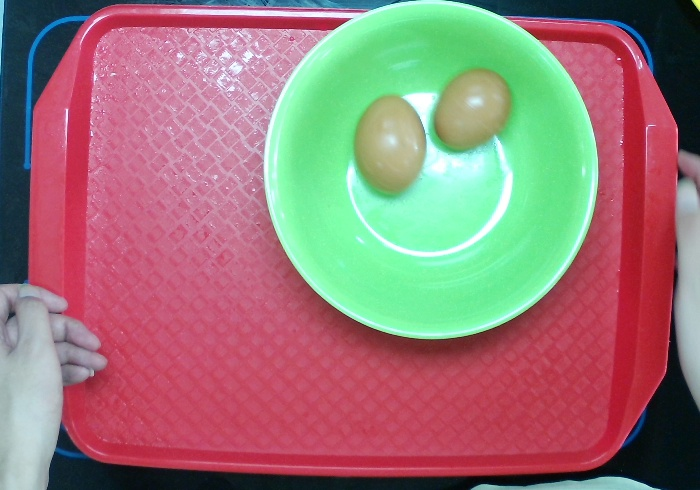YKMZ-Lv_Se_Tang_Wan: (254, 3, 612, 346)
